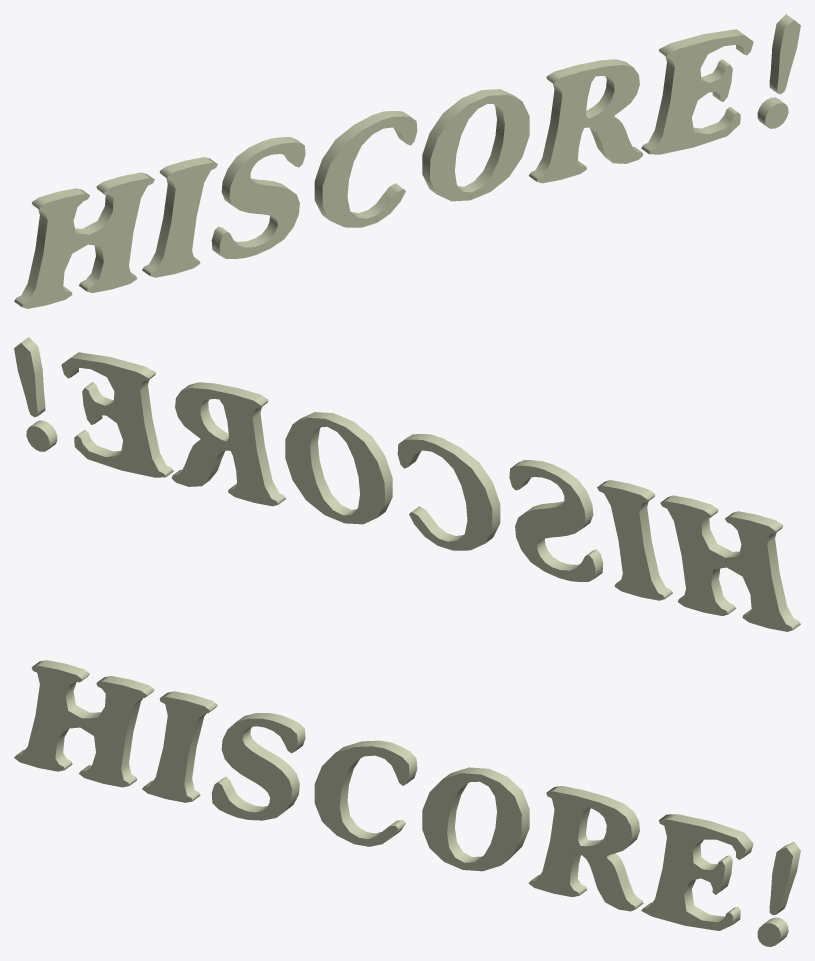
The model's file is hiscore.dae.
3 renders of one model, top to bottom at view 1: azimuth 30°, elevation 25°; view 2: azimuth 150°, elevation 25°; view 3: azimuth 330°, elevation 25°, orthographic.
Visible parts, largest first — view 1: text5-0; view 2: text5-0; view 3: text5-0.
Part boxes in pixels (x1,y1,x2,y2): text5-0: [14, 14, 800, 308]; text5-0: [14, 337, 800, 631]; text5-0: [14, 660, 800, 946].
Size of the model in its own units: 11.51 by 1.49 by 0.2.
